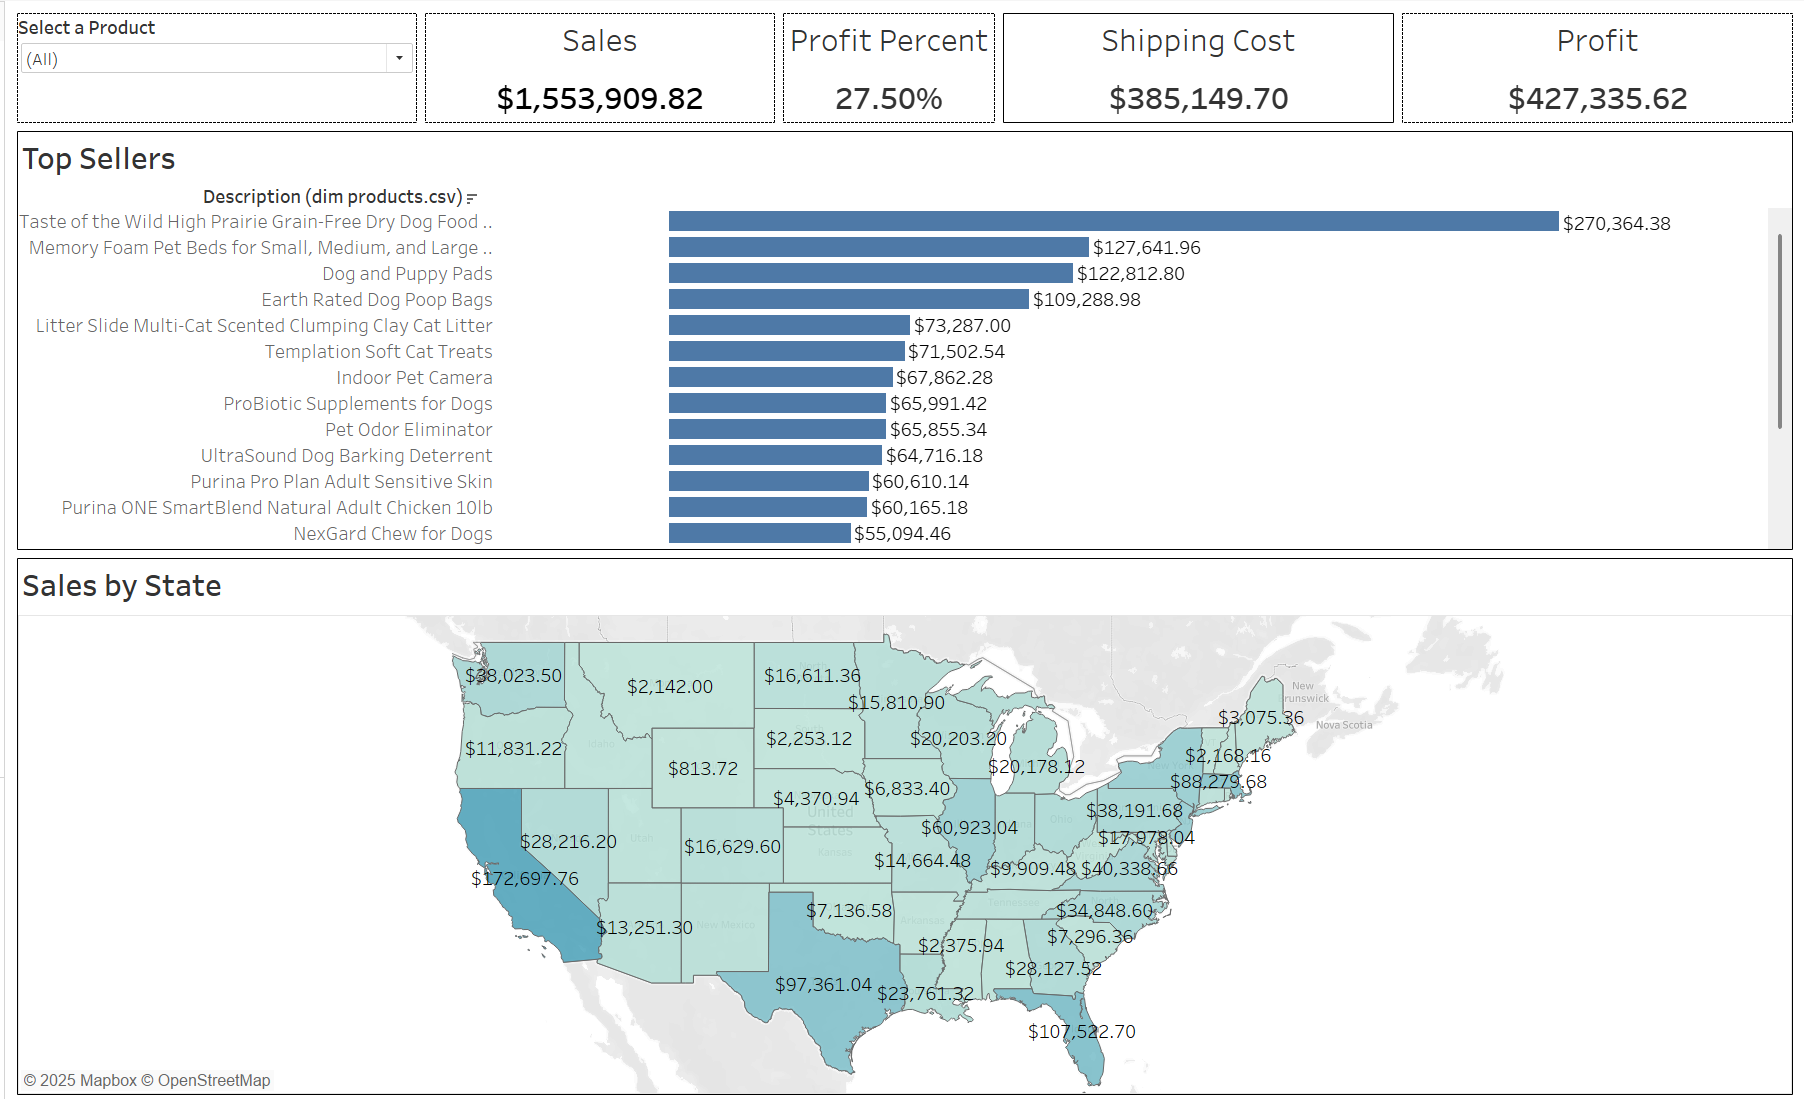

What the dashboard file says about the page in this screenshot:
{"tool":"tableau","page":{"name":"Executive Overview","canvas":[1800,1106],"ordinal":0},"visuals":[{"type":"filter","title":"Top Sellers","param":"[federated.12z1sss0bsylgv1e0dhbm0hbnvm0].[none:Description (dim_products.csv):nk","box":[8,8,408,182]},{"type":"worksheet","title":"BAN -Sales","mark":"Automatic","box":[416,8,358,182]},{"type":"worksheet","title":"BAN - Profit %","mark":"Automatic","box":[774,8,220,182]},{"type":"worksheet","title":"BAN - Shipping Cost","mark":"Automatic","box":[994,8,399,182]},{"type":"worksheet","title":"BAN - Profit","mark":"Automatic","box":[1393,8,399,182]},{"type":"worksheet","title":"Top Sellers","mark":"Automatic","rows":["Description (dim_products.csv)"],"cols":["Sales"],"box":[8,190,1784,363]},{"type":"worksheet","title":"Sales by State","mark":"Multipolygon","box":[8,553,1784,545]}]}

Visuals, with their boxes in screenshot pixels (x1, y1, x2, y2), scaled from the page's 1800x1106 canvas onto the 1804x1099 screenshot:
"Top Sellers" filter: <bbox>8, 8, 417, 189</bbox>
"BAN -Sales" worksheet: <bbox>417, 8, 776, 189</bbox>
"BAN - Profit %" worksheet: <bbox>776, 8, 996, 189</bbox>
"BAN - Shipping Cost" worksheet: <bbox>996, 8, 1396, 189</bbox>
"BAN - Profit" worksheet: <bbox>1396, 8, 1796, 189</bbox>
"Top Sellers" worksheet: <bbox>8, 189, 1796, 550</bbox>
"Sales by State" worksheet (Multipolygon marks): <bbox>8, 550, 1796, 1091</bbox>
